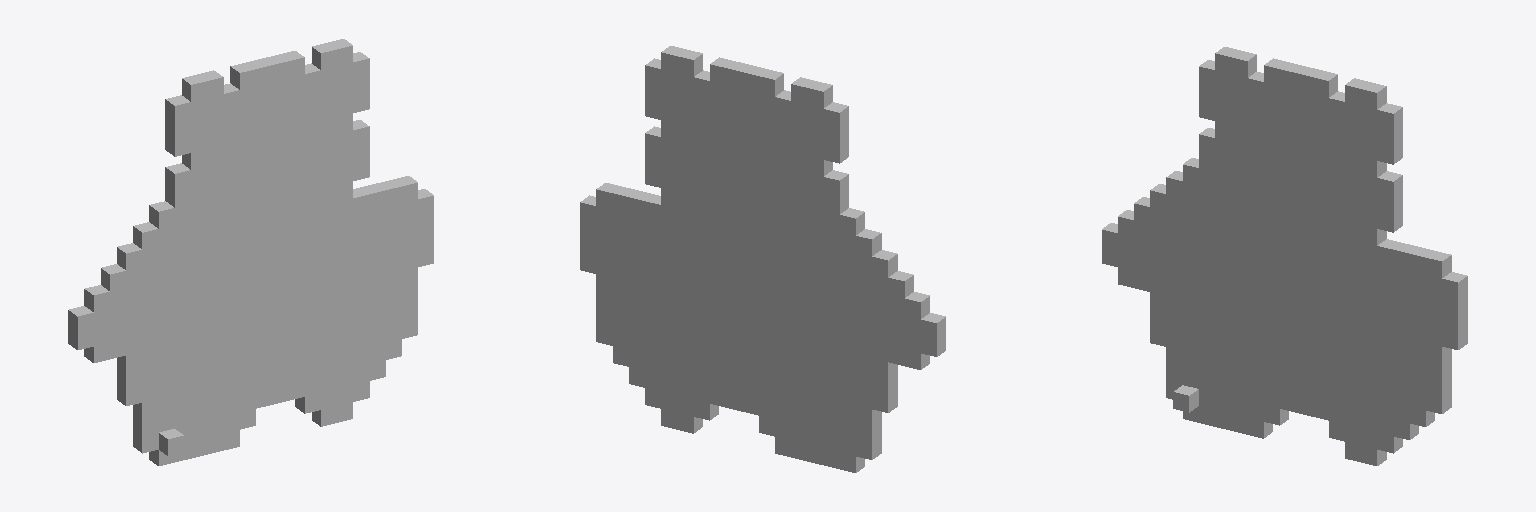
The model's file is bear throw.obj.
3 renders of one model, left to right at view 1: azimuth 30°, elevation 25°; view 2: azimuth 150°, elevation 25°; view 3: azimuth 330°, elevation 25°, orthographic.
Visible parts, largest first — view 1: object 1; view 2: object 1; view 3: object 1.
Boxes of the visible parts, <box> form: object 1: <box>68,39,433,465</box>; object 1: <box>580,46,945,472</box>; object 1: <box>1102,47,1467,465</box>.
Bounding box in the file's own units: 2.2 × 2.2 × 0.2.